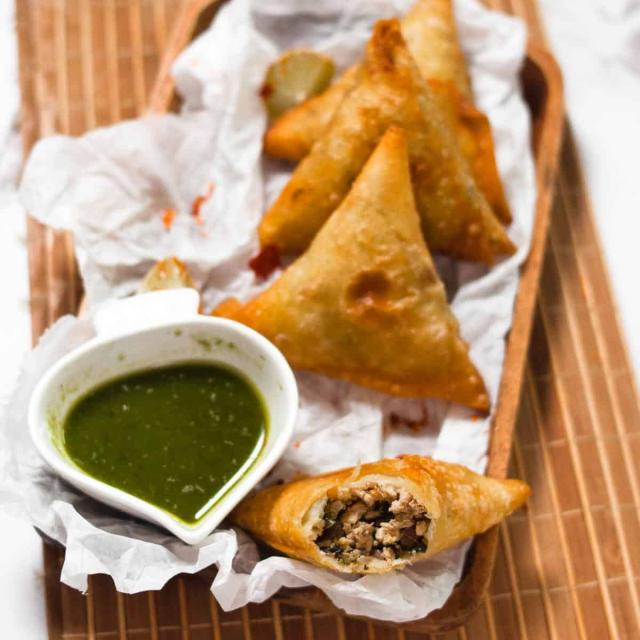SAMOSA: (240, 0, 516, 410), (236, 455, 529, 573), (91, 328, 225, 388), (338, 465, 434, 522)
